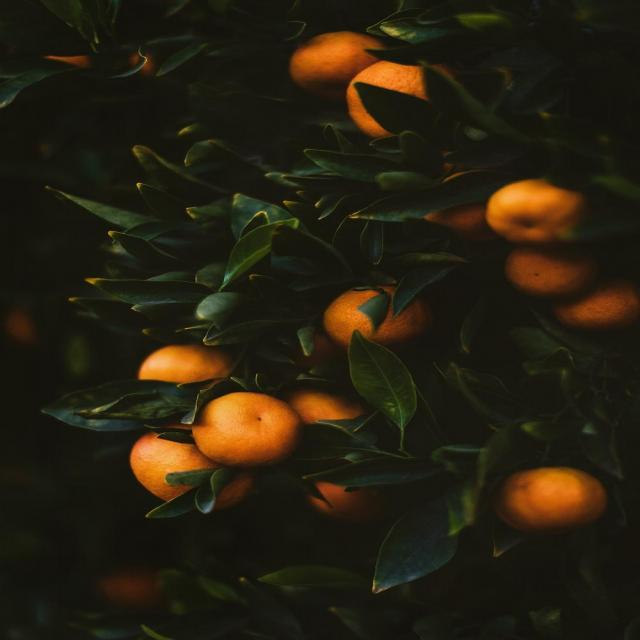Jeruk Sudah Matang: (124, 428, 250, 506), (190, 392, 309, 464), (498, 462, 606, 524), (347, 57, 425, 139), (482, 178, 580, 240), (502, 242, 600, 300), (290, 31, 389, 88), (324, 286, 428, 340), (563, 277, 640, 332), (136, 343, 244, 380), (297, 391, 368, 421)
